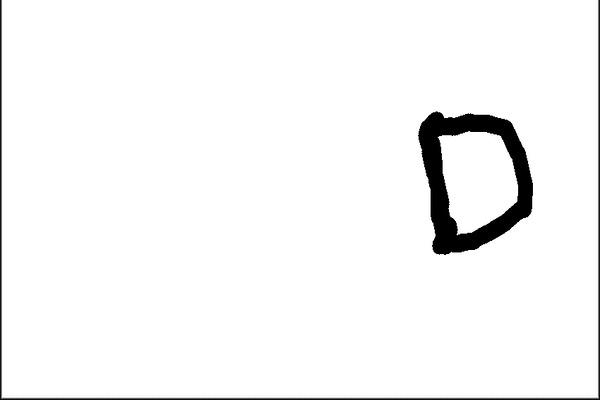D: (413, 107, 540, 258)
